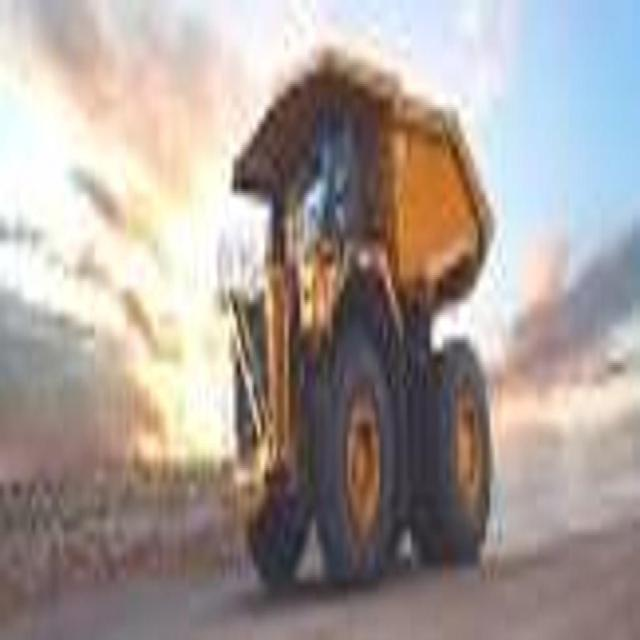dump_truck: (222, 30, 496, 611)
